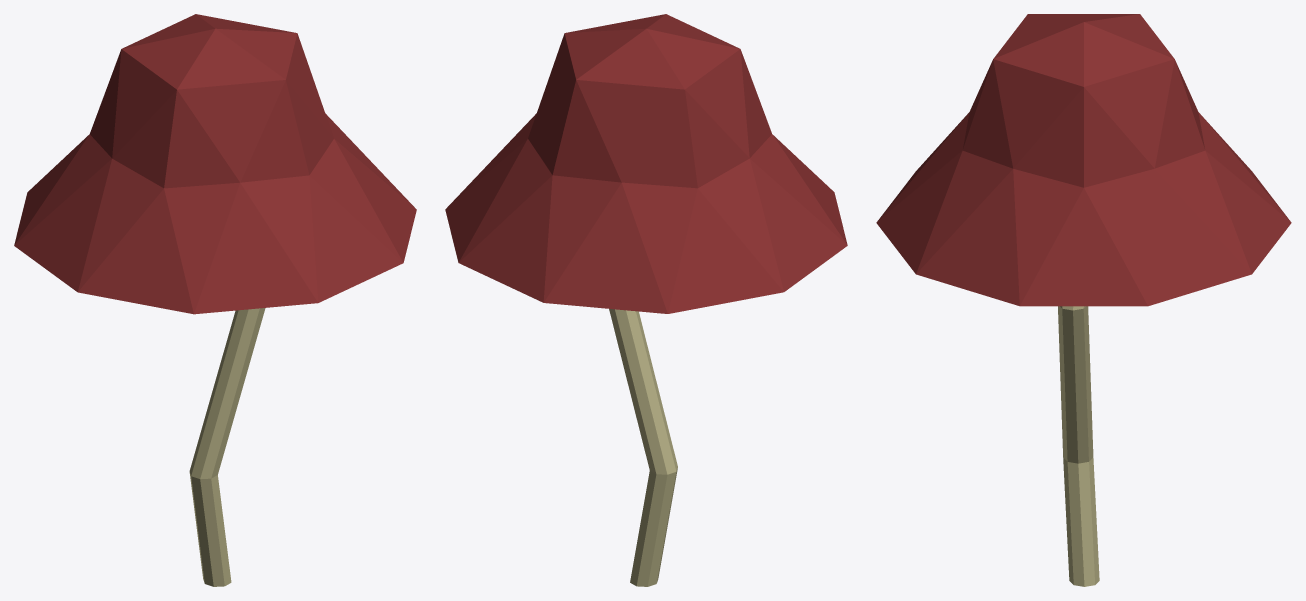
Rendered from hat_mushroom_tall_red.fbx.
The picture shows the model from 3 angles, left to right: view 1: azimuth 30°, elevation 25°; view 2: azimuth 150°, elevation 25°; view 3: azimuth 270°, elevation 25°; orthographic projection.
Parts seen in each view (by area): view 1: hat_mushroom_tall_red; view 2: hat_mushroom_tall_red; view 3: hat_mushroom_tall_red.
Part boxes in pixels (x1,y1,x2,y2): hat_mushroom_tall_red: [14, 14, 416, 586]; hat_mushroom_tall_red: [445, 14, 847, 586]; hat_mushroom_tall_red: [876, 14, 1291, 586].
Size of the model in its own units: 89.41 by 139 by 94.01.
